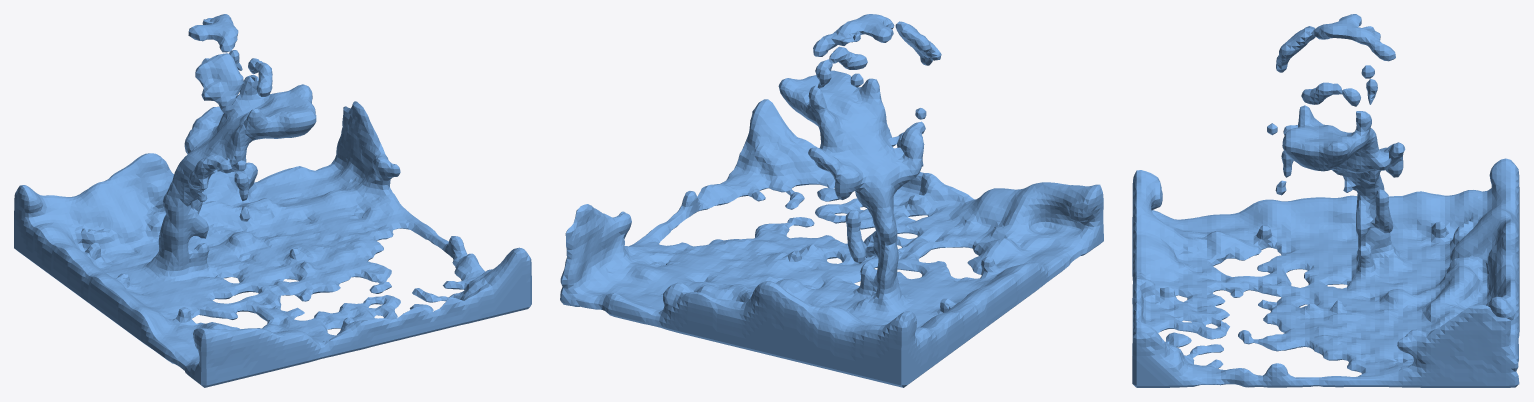
File: water_0079.glb
3 renders of one model, left to right at view 1: azimuth 30°, elevation 25°; view 2: azimuth 150°, elevation 25°; view 3: azimuth 270°, elevation 25°, orthographic. The views are drawn at different scales.
Visible parts, largest first — view 1: Water_0079; view 2: Water_0079; view 3: Water_0079.
Boxes of the visible parts, x1=… form: Water_0079: x1=14, y1=14, x2=531, y2=387; Water_0079: x1=560, y1=14, x2=1103, y2=387; Water_0079: x1=1132, y1=14, x2=1519, y2=387.
Bounding box in the file's own units: 4.83 × 3.63 × 4.83.
